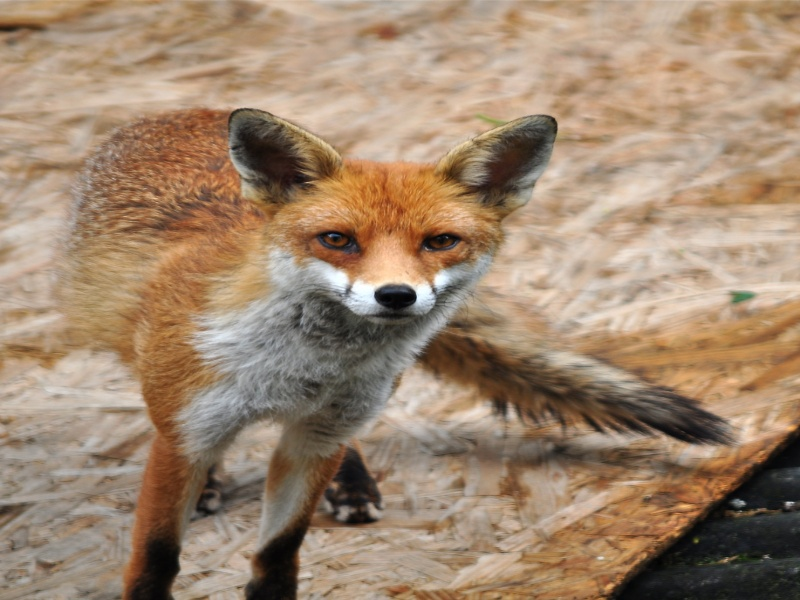fox: (53, 94, 730, 595)
